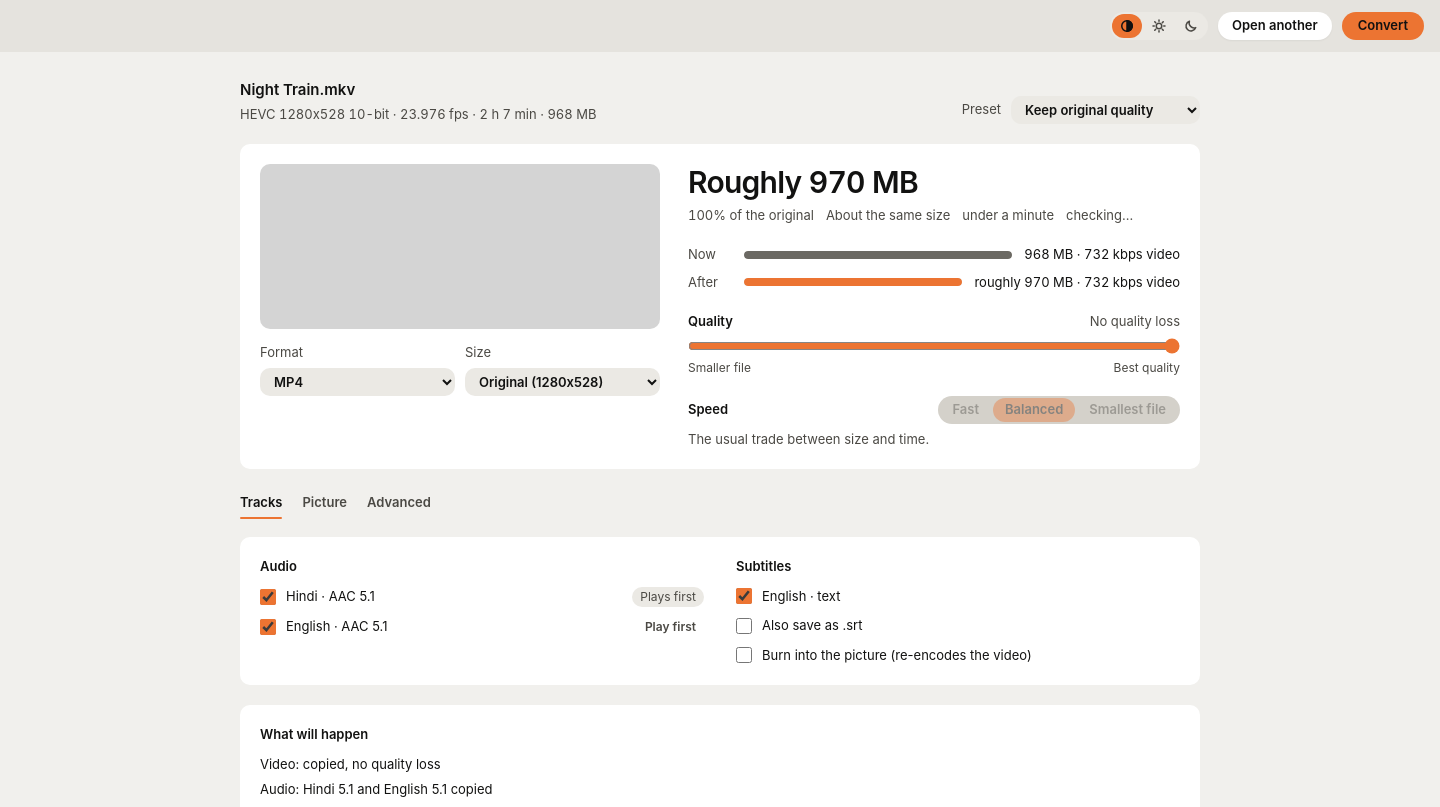
Test case: the result card › picks a speed, saying what the smallest file costs
Select "480p (854x352)" in the dropdown labelled "Size": coordinates (562, 382) [465,368,660,396]
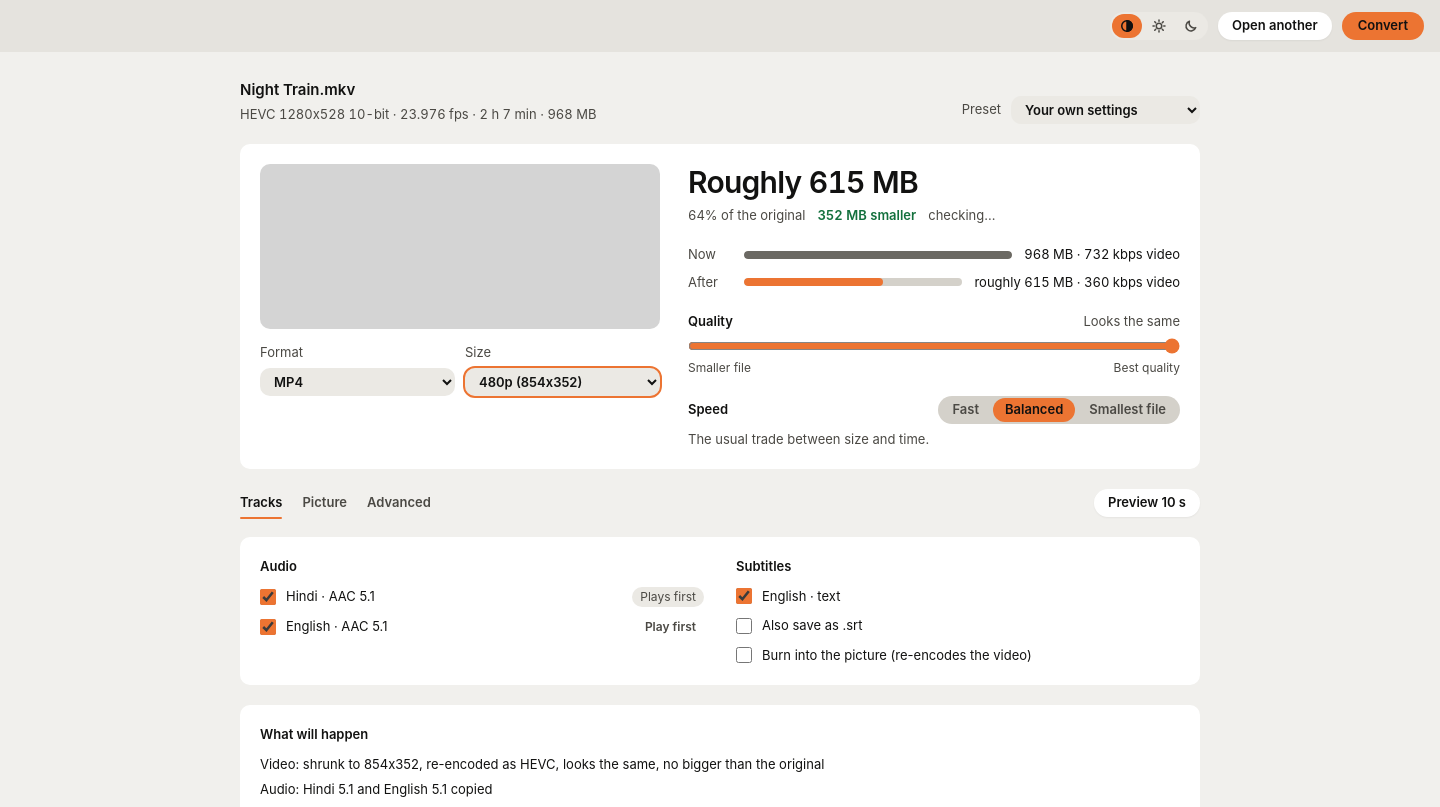
Click the 4th radio button labelled "Smallest file": coordinates (1128, 409) [1089,401,1166,417]
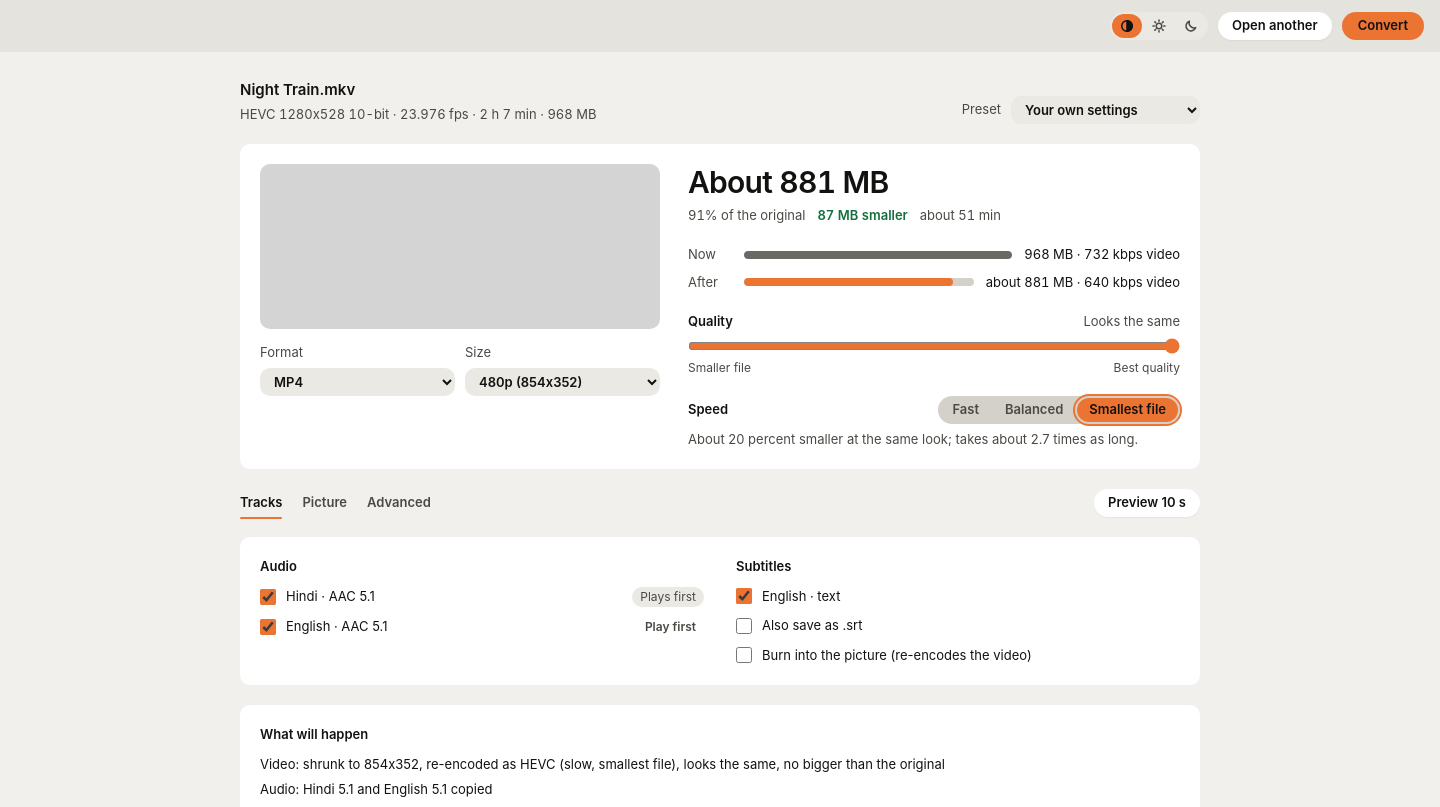
expect the 4th radio button labelled "Smallest file" is checked: met, box [1077,398,1178,422]
expect the text "About 20 percent smaller at the same look; takes about 2.7 times as long." is shown: met, box [688,430,1180,449]
